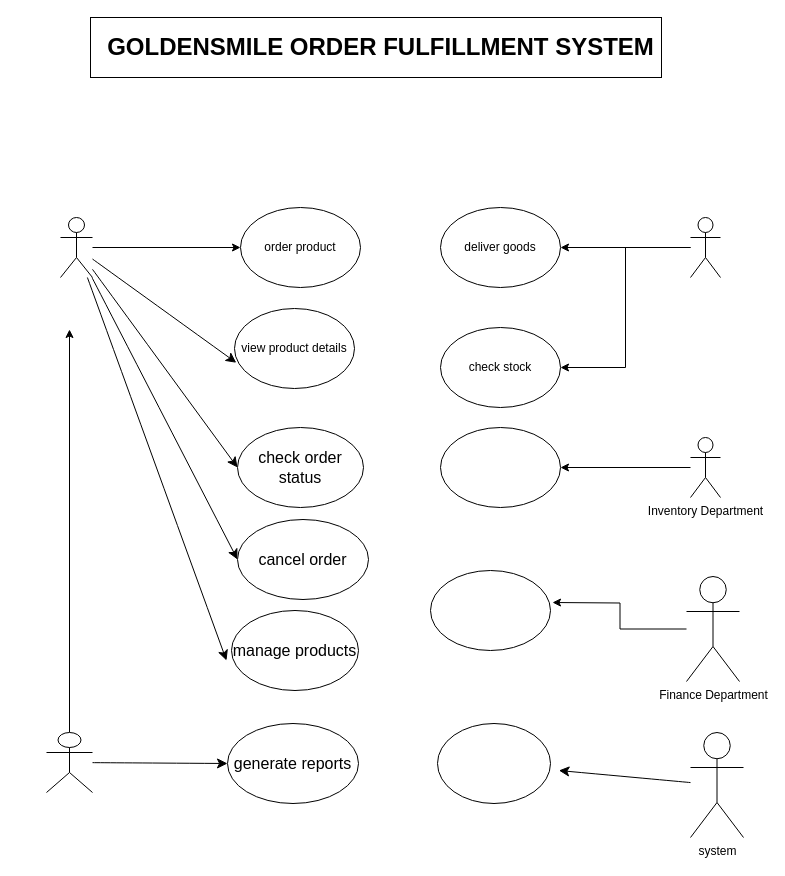
Some shapes in this 785 by 876 pixel diagram are drawn without their labels. The shapes that lost their labels are listed below. From the top down, each one's centre as x and y in pixels, then its label:
At (76,247): "order processing clerk".
At (705,247): "Transport Department".
At (500,467): "replenish stock".
At (490,610): "credit check".
At (69,762): "section manager".
At (493,763): "archive orders".
